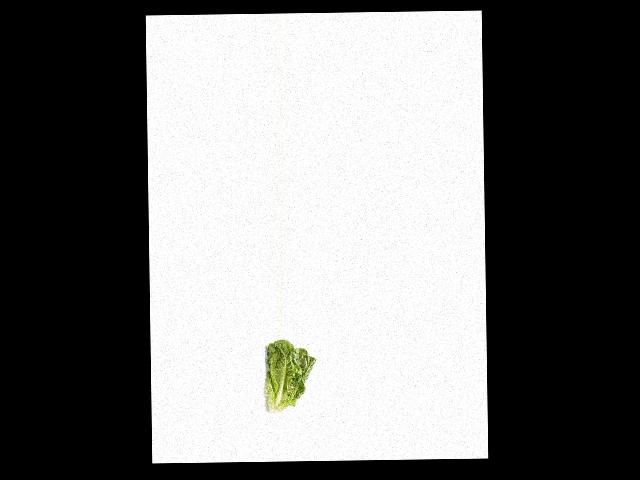lettuce: (254, 339, 317, 416)
